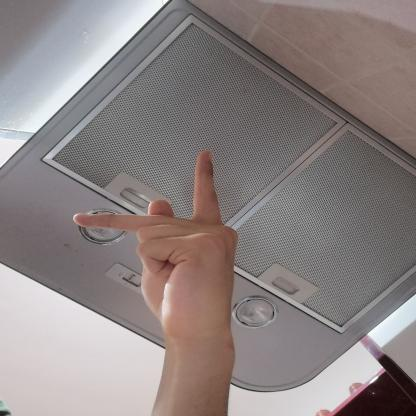DHAA: (62, 141, 253, 348)
